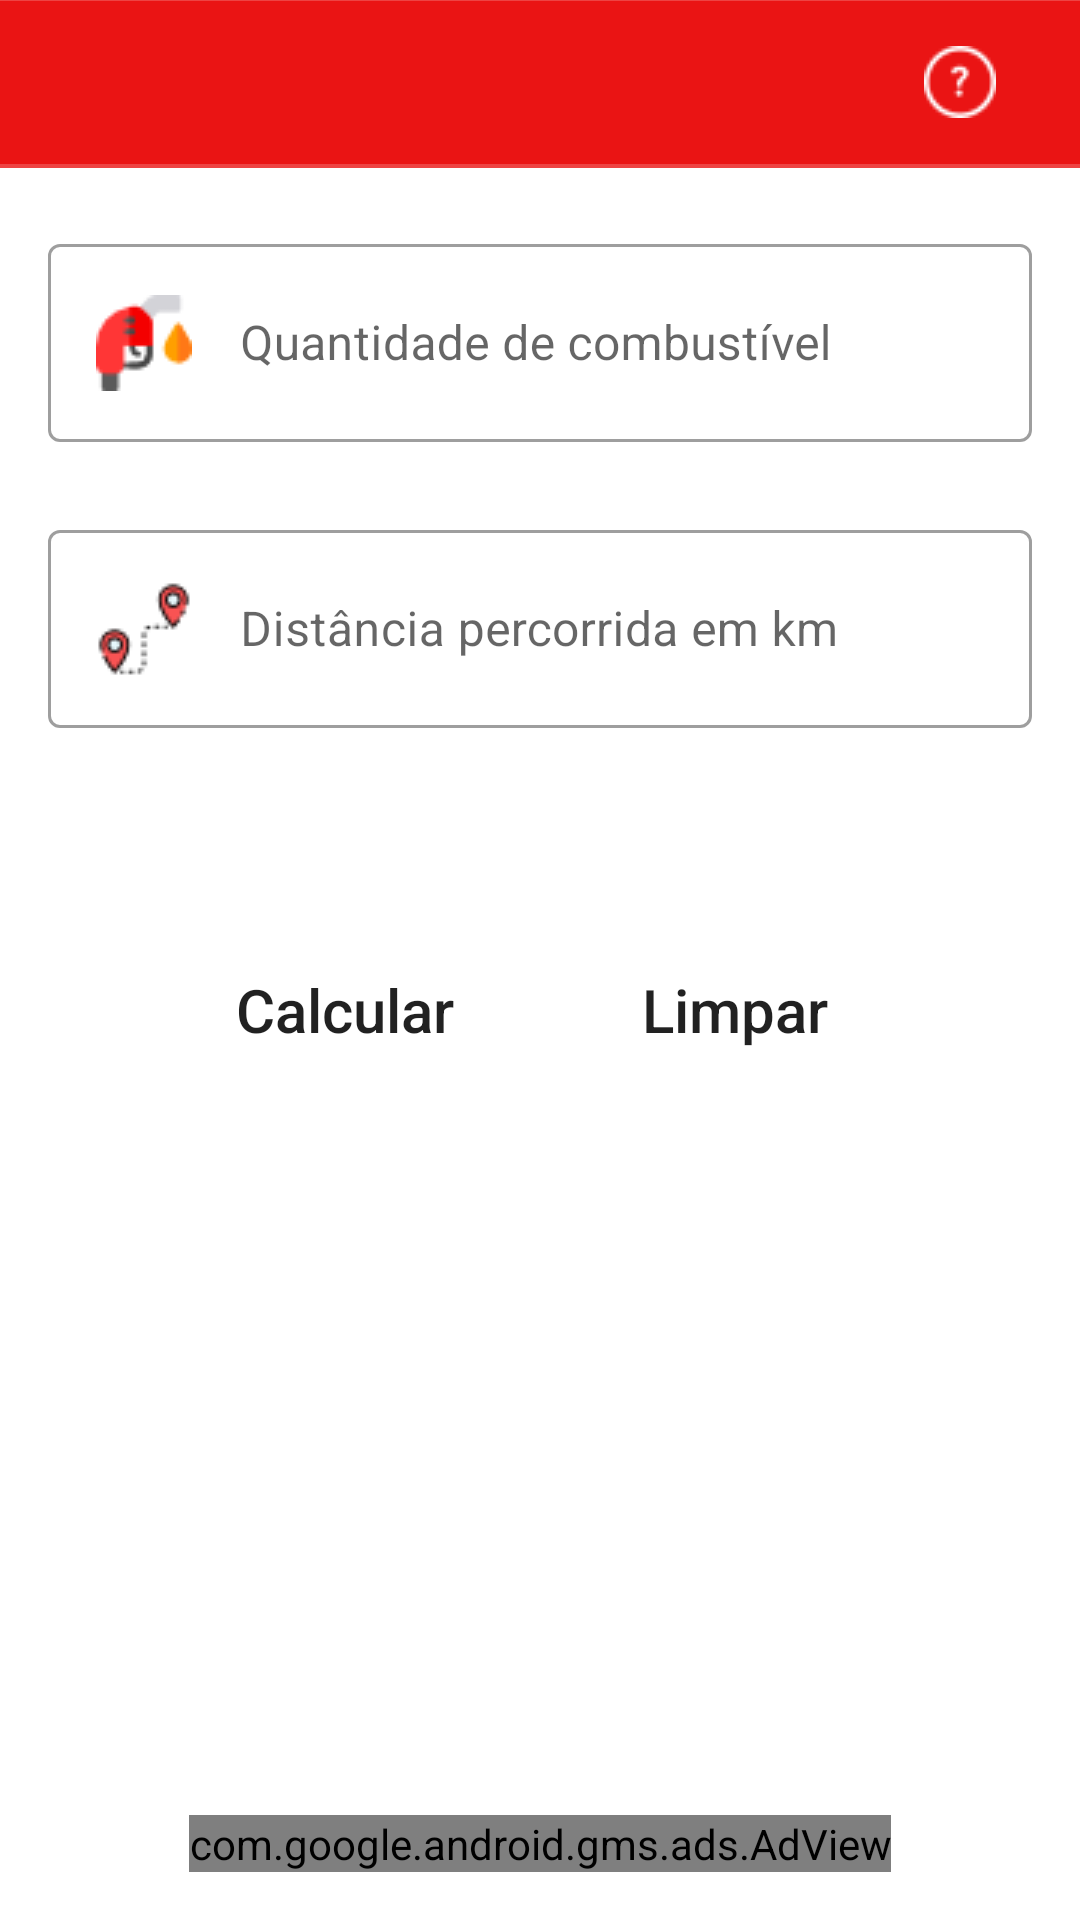

Named icons in this screenshot (1080 x 1920) and their bounding boxes, (x1, y1, x2, y2):
question: (924, 46, 996, 118)
